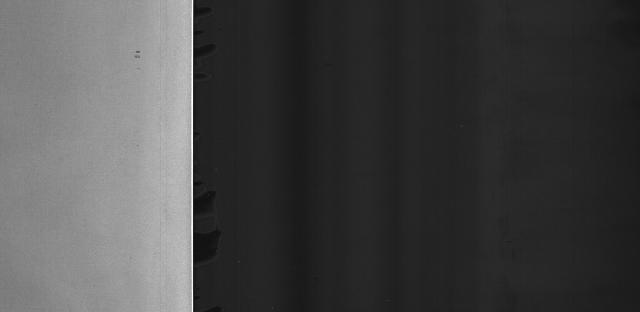inclusion: (129, 46, 146, 72)
